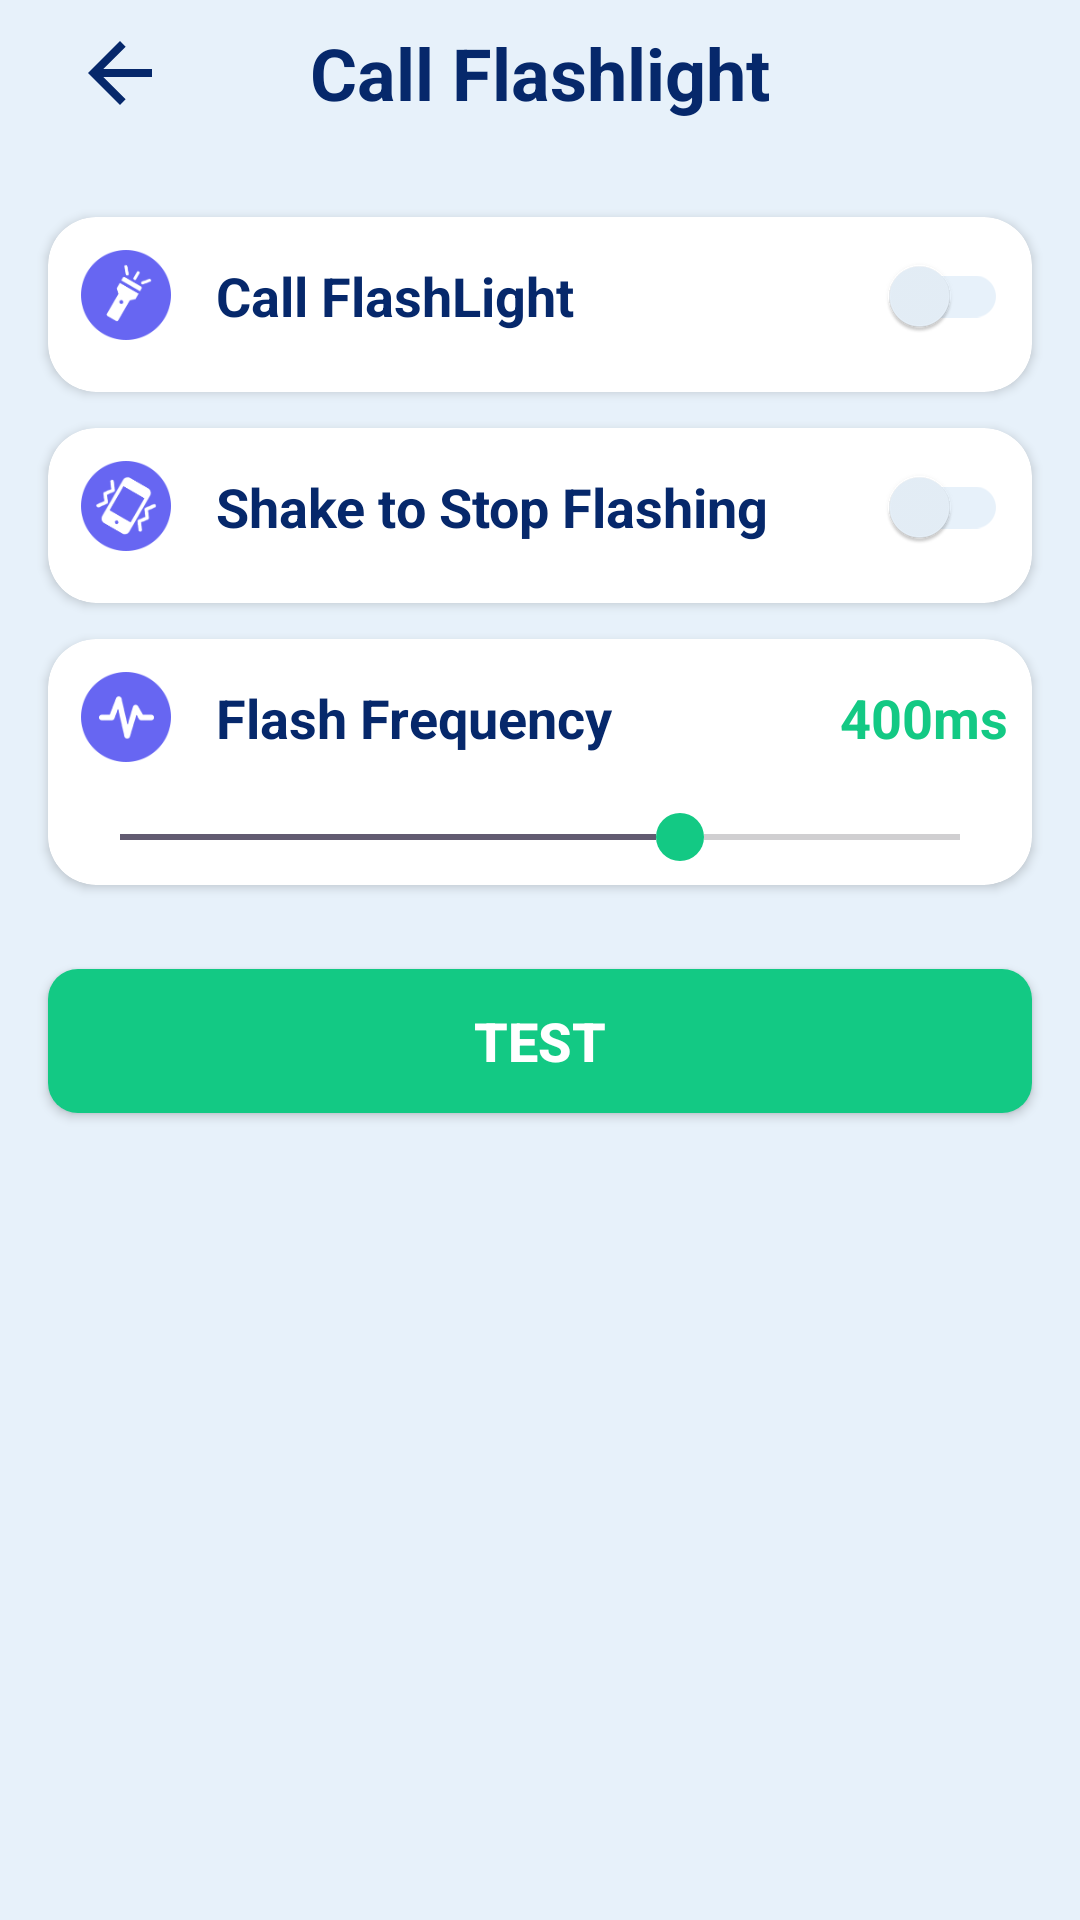

Named icons in this screenshot (1080 × 1920) and their bounding boxes, [left=x1, top=y1, right=x2, bottom=y2]:
arrow back: [left=88, top=41, right=152, bottom=105]
shake phone: [left=81, top=461, right=171, bottom=551]
